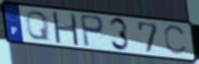3: (108, 17, 133, 52)
7: (136, 21, 159, 54)
C: (162, 25, 189, 57)
H: (51, 10, 80, 47)
P: (79, 13, 106, 49)
Q: (24, 10, 51, 41)
